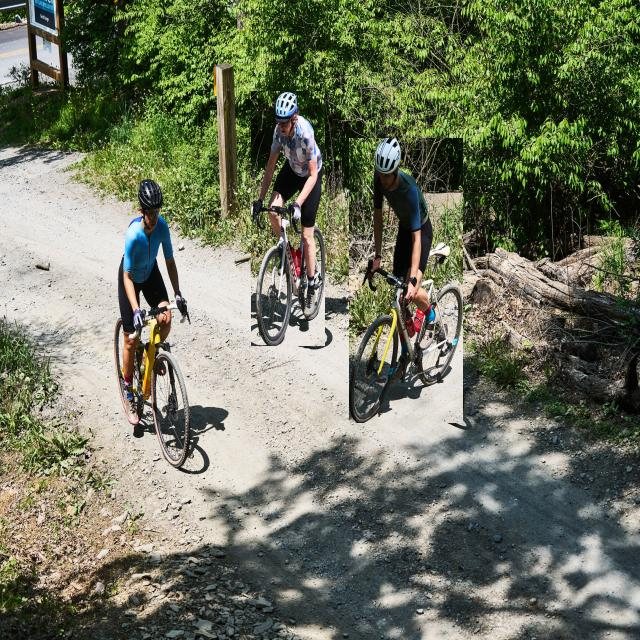bicycle: (350, 138, 463, 423), (115, 180, 190, 469), (251, 92, 325, 346)
